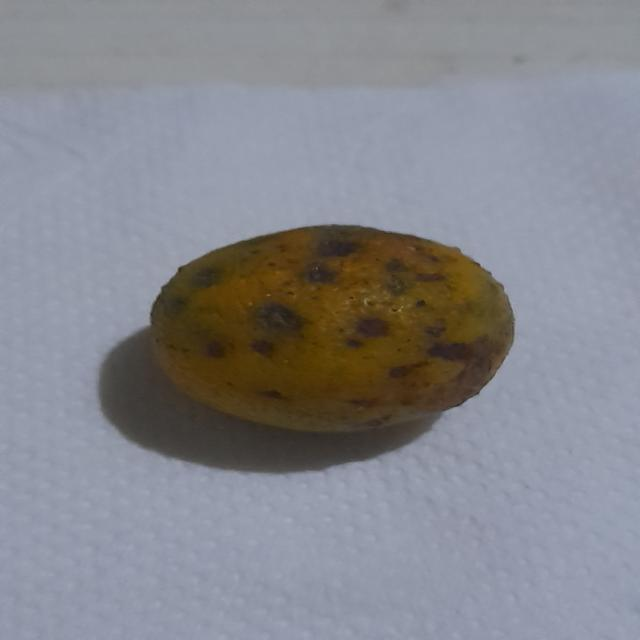black spot: (151, 224, 524, 439)
